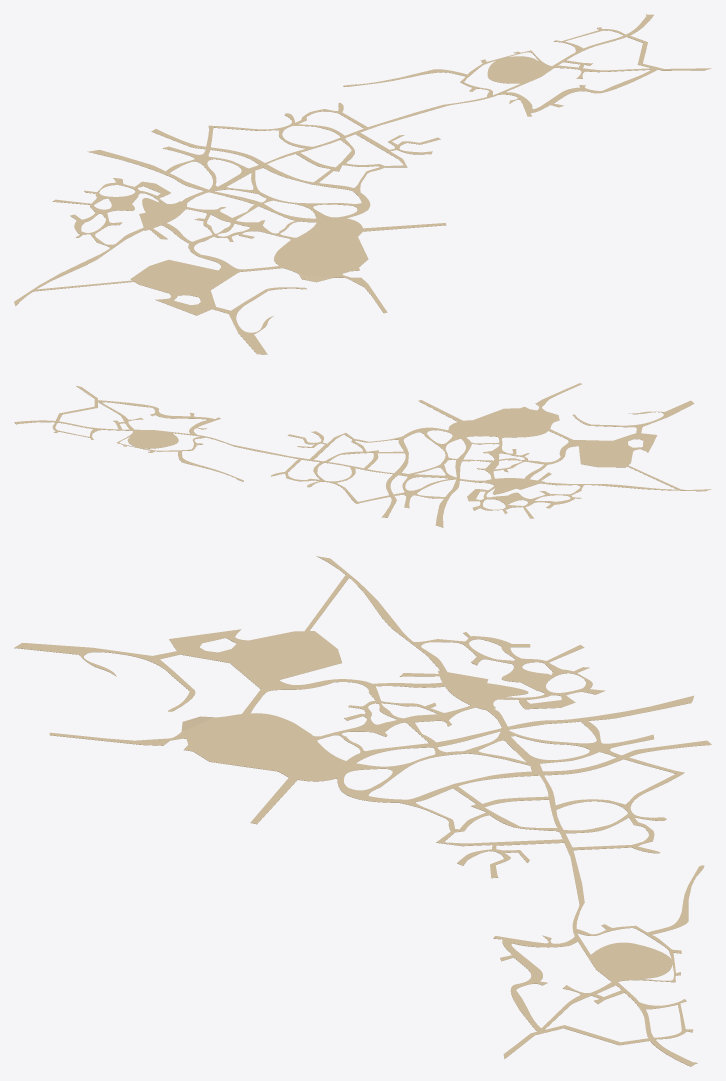
The model's file is path.fbx.
3 views of the same model, one above another, from view 1: azimuth 30°, elevation 25°; view 2: azimuth 150°, elevation 25°; view 3: azimuth 270°, elevation 25° (orthographic). The views are drawn at different scales.
Visible parts, largest first — view 1: path; view 2: path; view 3: path.
Part boxes in pixels (x1=…): path: x1=14, y1=14, x2=711, y2=354; path: x1=14, y1=383, x2=711, y2=527; path: x1=14, y1=556, x2=711, y2=1066.
Bounding box in the file's own units: 791 × 0.7729 × 457.
